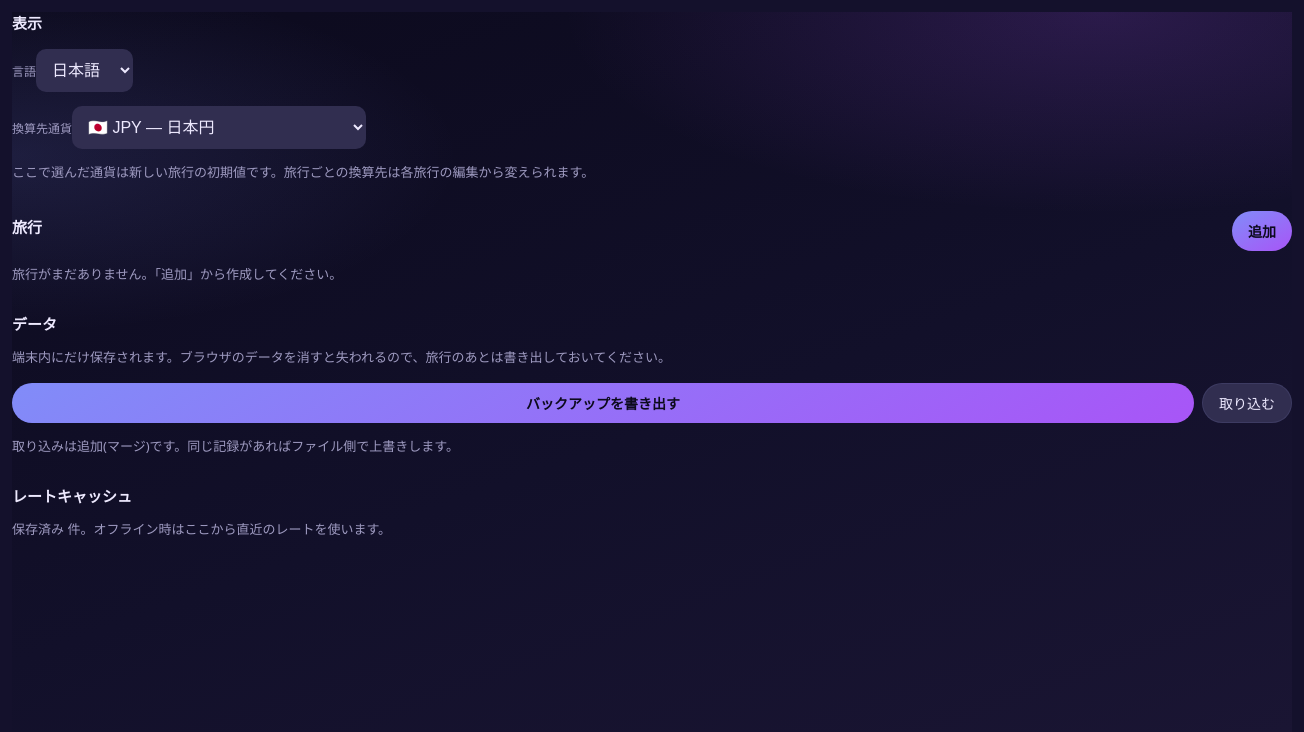
Test: SettingsScreen のエクスポート › exportBackup が失敗したら失敗メッセージを出し、成功メッセージは出さない
What coordinates should you click on to do the following:
click the button "バックアップを書き出す"
I would click on:
 (603, 403)
Its box is [12,383,1194,423].
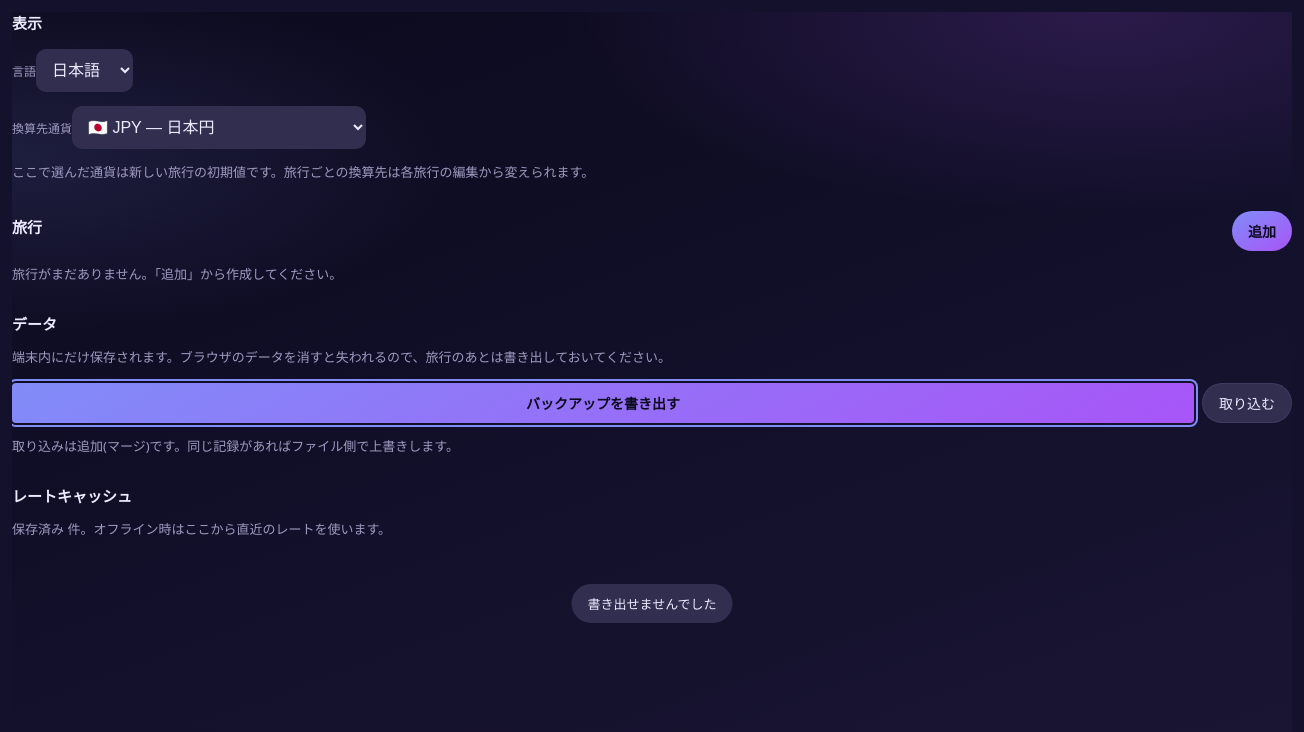
Now the text "書き出せませんでした" is shown, box [572,584,732,623]
